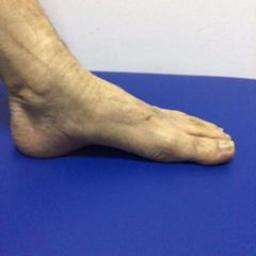Medial View -Left Foot-: (3, 52, 241, 182)
